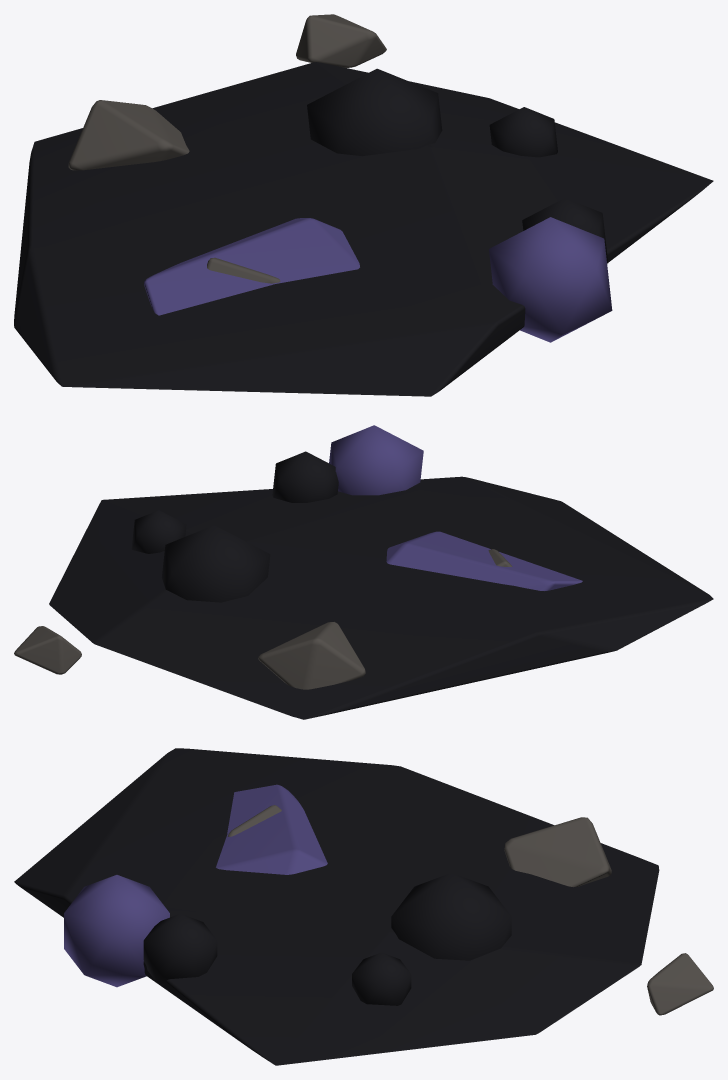
File: minerai_petrole_2.glb
3 views of the same model, one above another, from view 1: azimuth 30°, elevation 25°; view 2: azimuth 150°, elevation 25°; view 3: azimuth 270°, elevation 25° (orthographic). The views are drawn at different scales.
Visible parts, largest first — view 1: petrole_petrole.004, petrole_irise.004, petrole_pierre_sombre.004; view 2: petrole_petrole.004, petrole_irise.004, petrole_pierre_sombre.004; view 3: petrole_petrole.004, petrole_irise.004, petrole_pierre_sombre.004.
Part boxes in pixels (bbox=[...]): petrole_petrole.004: bbox=[14, 62, 713, 396]; petrole_irise.004: bbox=[144, 217, 612, 342]; petrole_pierre_sombre.004: bbox=[68, 14, 386, 283]; petrole_petrole.004: bbox=[49, 451, 713, 719]; petrole_irise.004: bbox=[329, 425, 582, 590]; petrole_pierre_sombre.004: bbox=[14, 549, 512, 689]; petrole_petrole.004: bbox=[14, 748, 659, 1065]; petrole_irise.004: bbox=[64, 784, 327, 987]; petrole_pierre_sombre.004: bbox=[228, 805, 713, 1015].
Bounding box in the file's own units: 0.3493 × 0.0673 × 0.3335.
